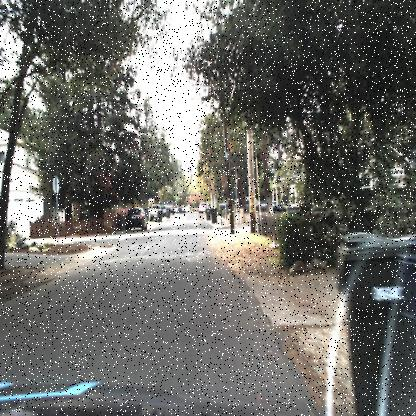car: (124, 204, 150, 233), (122, 206, 148, 232), (254, 200, 286, 215), (235, 194, 260, 209), (150, 204, 162, 219), (197, 200, 209, 213), (164, 200, 174, 215), (160, 204, 168, 216)
